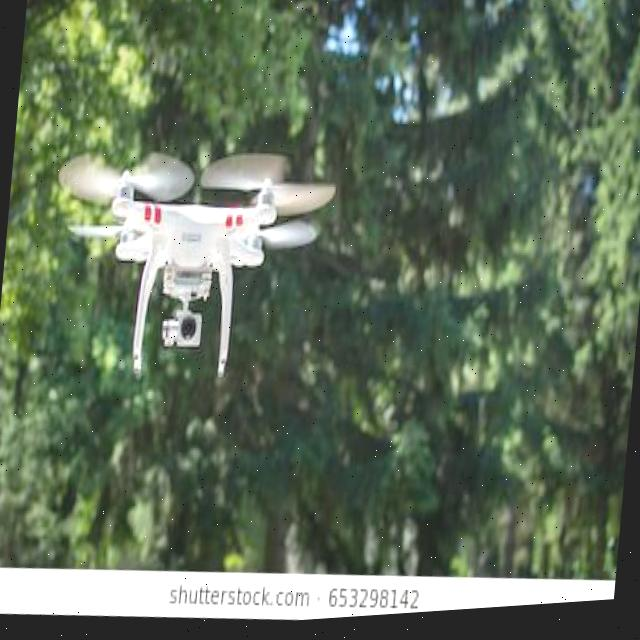drone: (0, 33, 371, 427)
